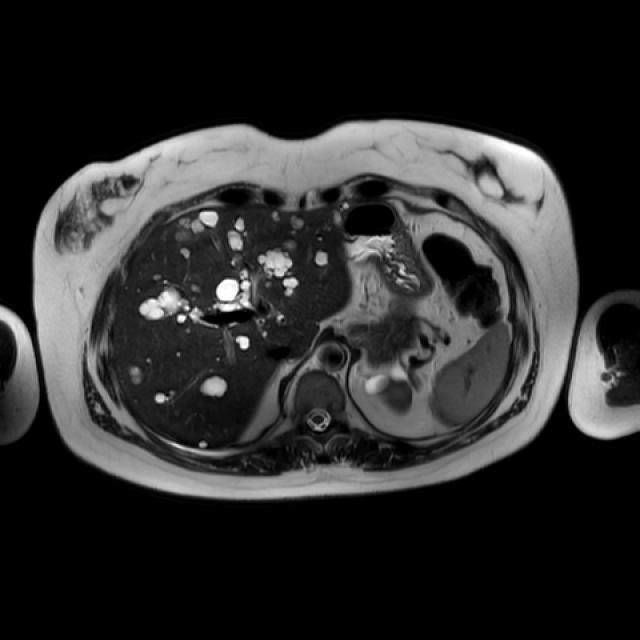sol: (365, 367, 416, 416)
